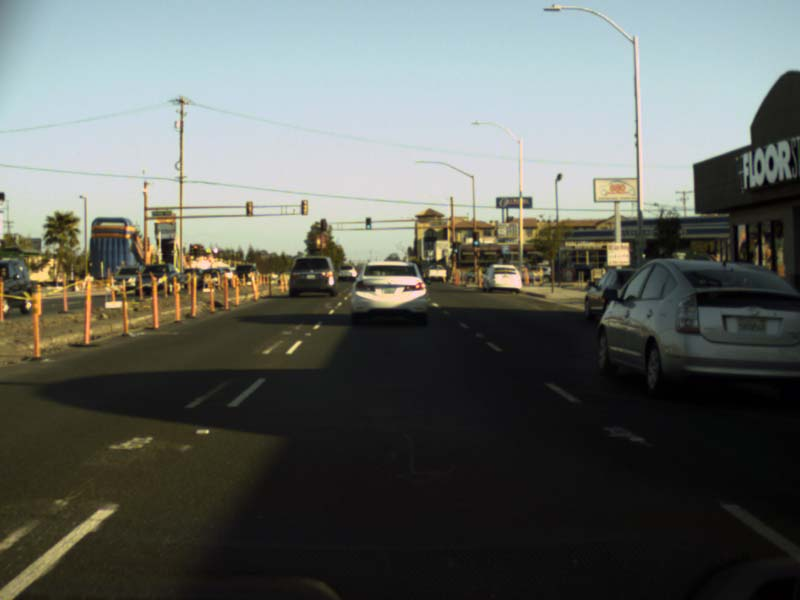Green: (471, 231, 479, 246), (364, 216, 372, 230), (452, 241, 457, 253)
